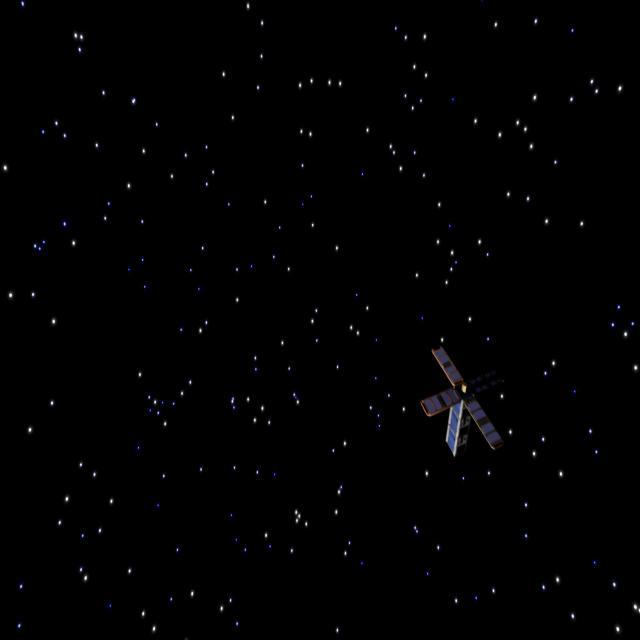medium_debris: (415, 340, 509, 468)
